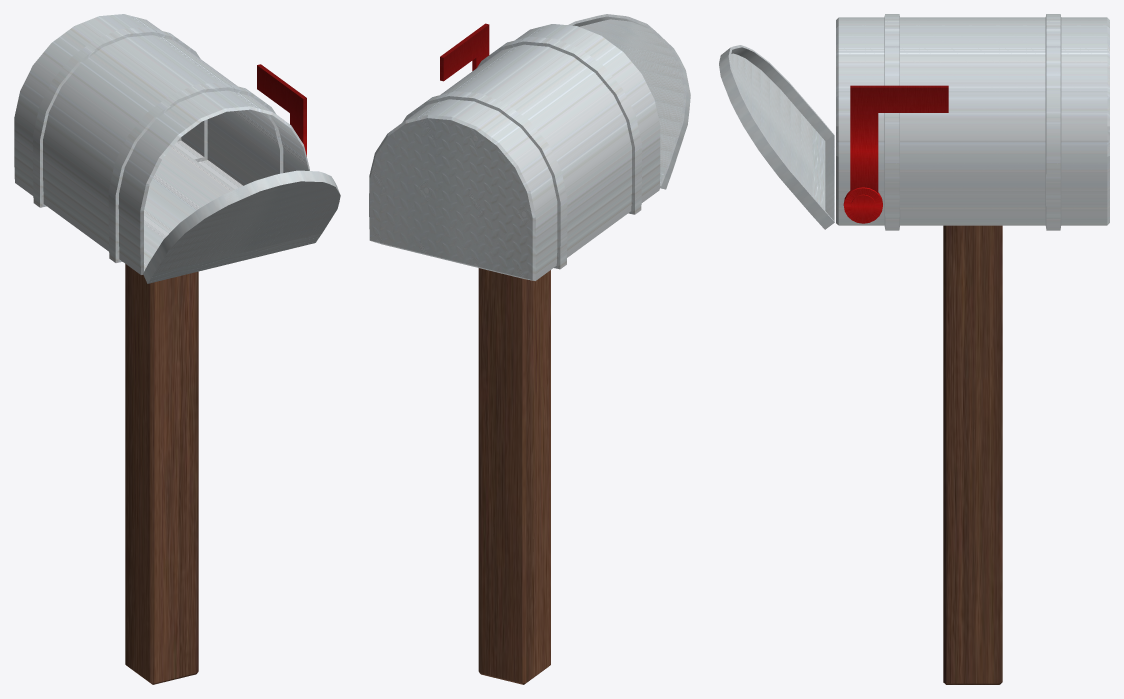
The model's file is buzon.obj.
The picture shows the model from 3 angles, left to right: view 1: azimuth 30°, elevation 25°; view 2: azimuth 150°, elevation 25°; view 3: azimuth 270°, elevation 25°; orthographic projection. The views are drawn at different scales.
Parts seen in each view (by area): view 1: Mailbox_obj:BoxMailbox1; view 2: Mailbox_obj:BoxMailbox1; view 3: Mailbox_obj:BoxMailbox1.
Boxes of the visible parts, box(x1,y1,x2,y2) form: Mailbox_obj:BoxMailbox1: box(14, 14, 340, 684); Mailbox_obj:BoxMailbox1: box(369, 14, 690, 684); Mailbox_obj:BoxMailbox1: box(719, 14, 1109, 684).
Bounding box in the file's own units: 0.8179 × 2.68 × 1.46.
Materials: 3 (3 with a texture image).
